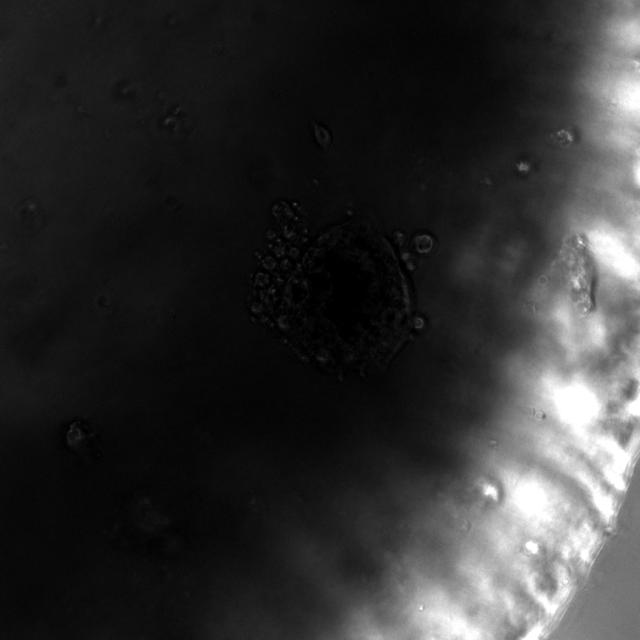organoid: (249, 202, 436, 379), (551, 234, 596, 314)
